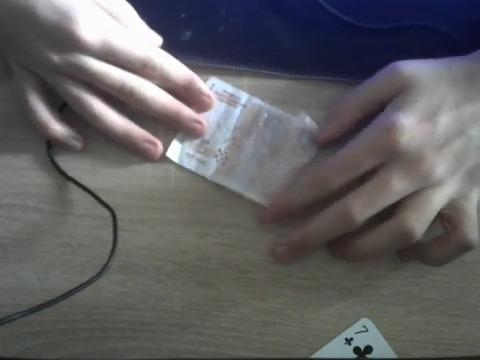5leva: (164, 77, 318, 208)
